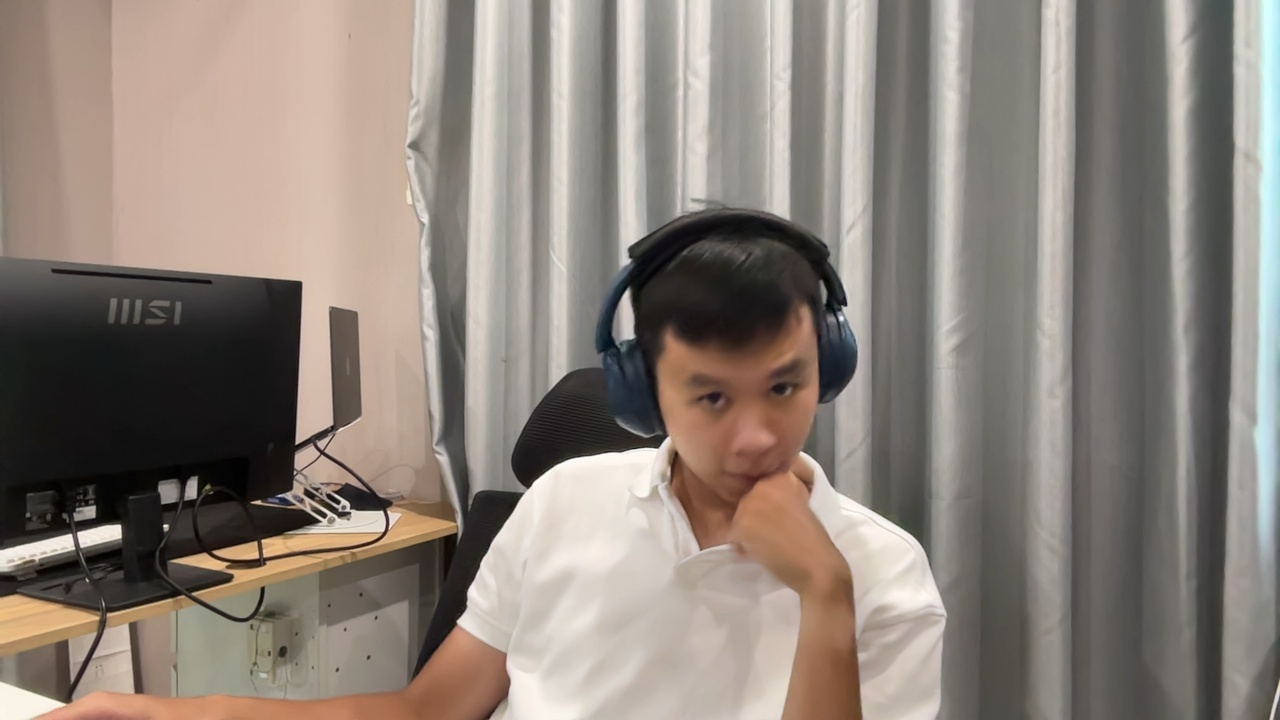over_ear: (593, 207, 860, 446), (593, 207, 860, 445)
